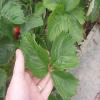Strawberry leaf: (18, 30, 51, 76), (50, 30, 80, 71), (49, 68, 80, 98)
